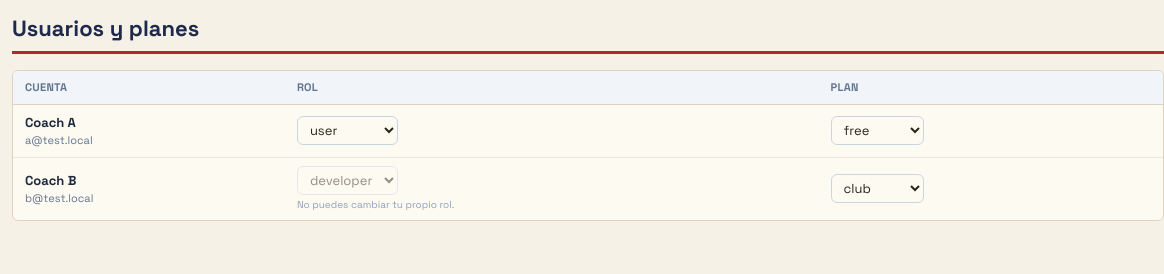
Test: UserManager (RAU-52 dev section) › shows a save error and reloads when the PATCH fails
The width and height of the screenshot is (1164, 274).
Expected: the text "Coach A" is shown, [25, 114, 76, 130]
Select "club" in the dropdown named "Cambiar plan de a@test.local": {"x": 877, "y": 130} [830, 116, 924, 145]
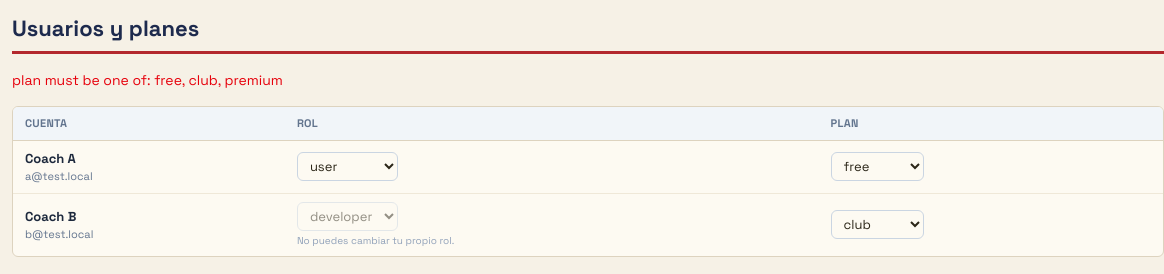
Expected: the message shows "plan must be one of", [12, 71, 283, 89]
